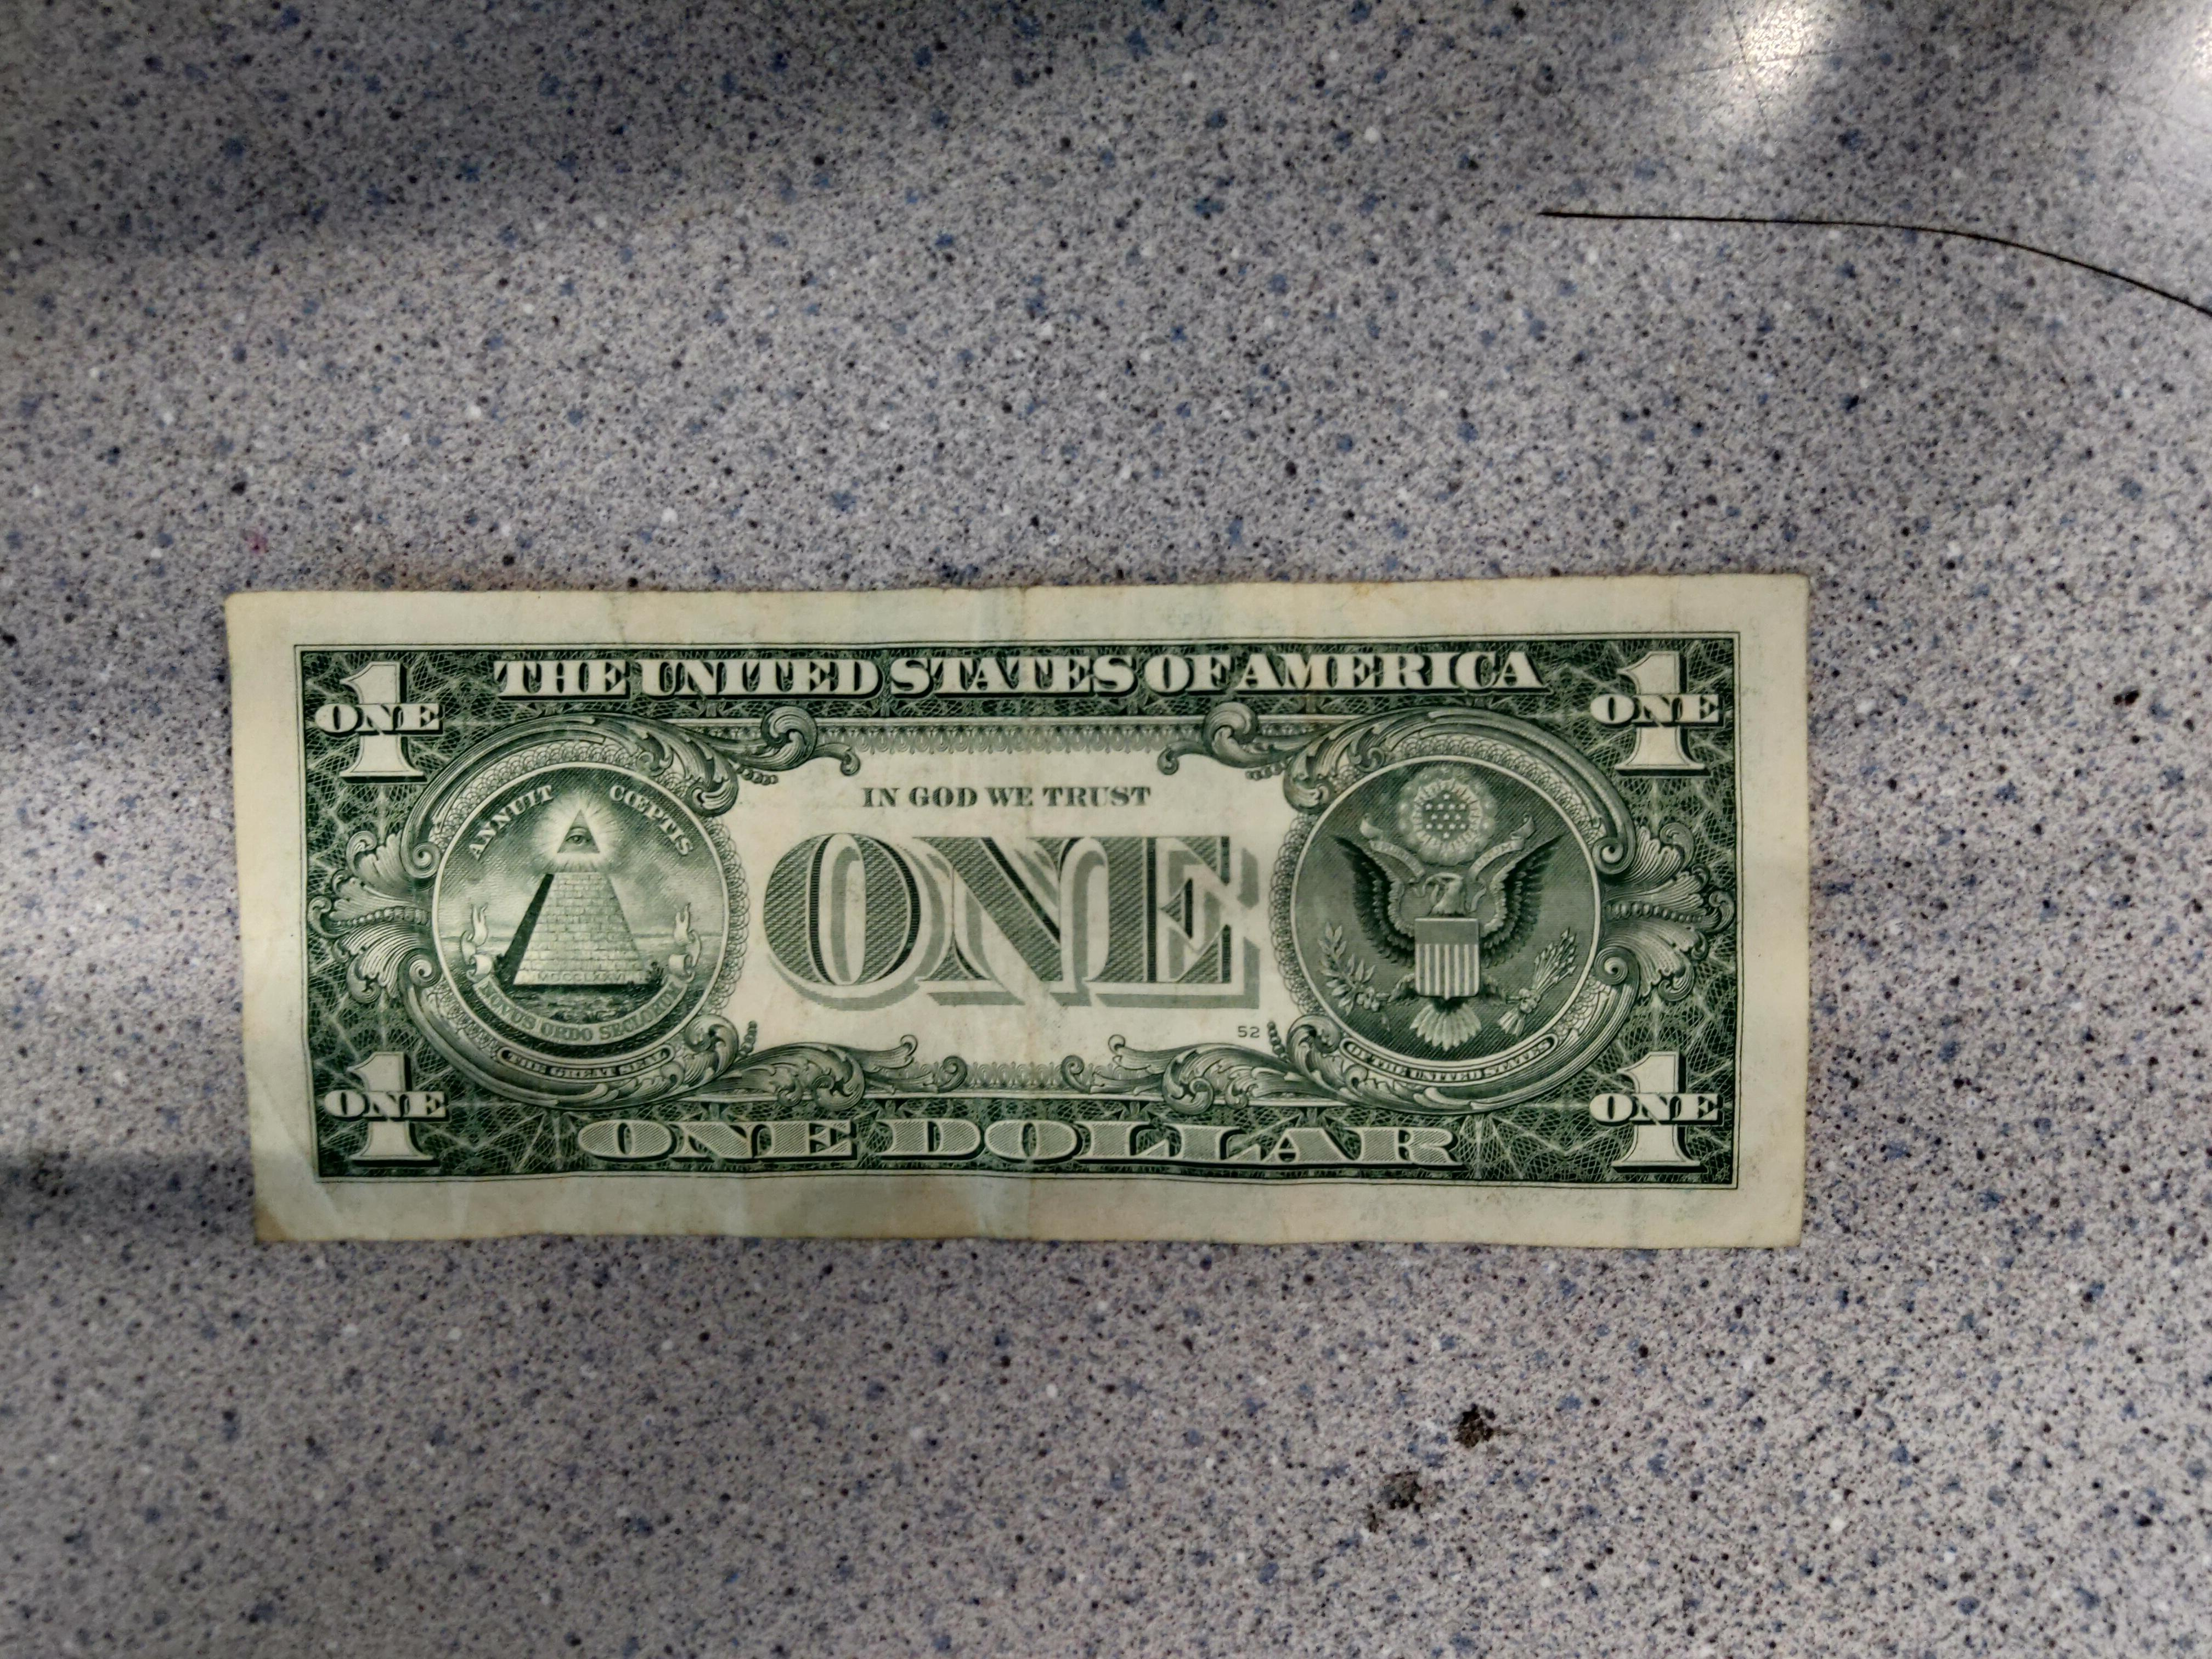OneBill: (221, 568, 1815, 1253)
